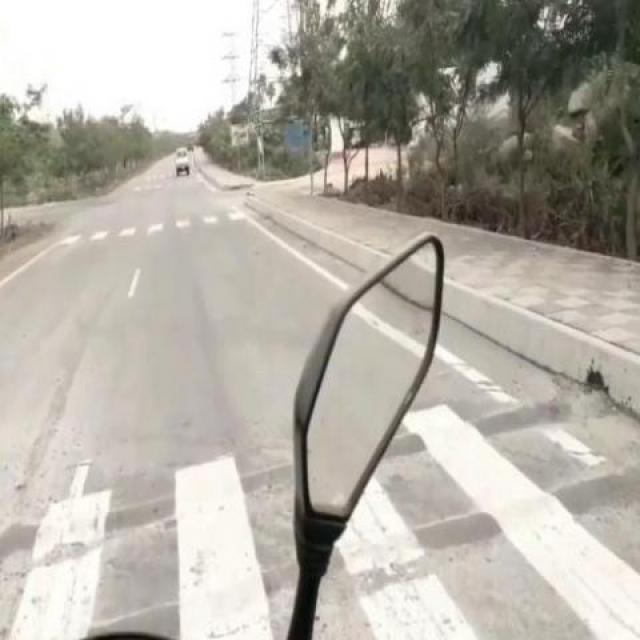Speed Bump: (377, 463, 639, 593), (0, 458, 295, 562), (97, 550, 291, 630), (409, 392, 604, 452), (560, 596, 639, 640)
